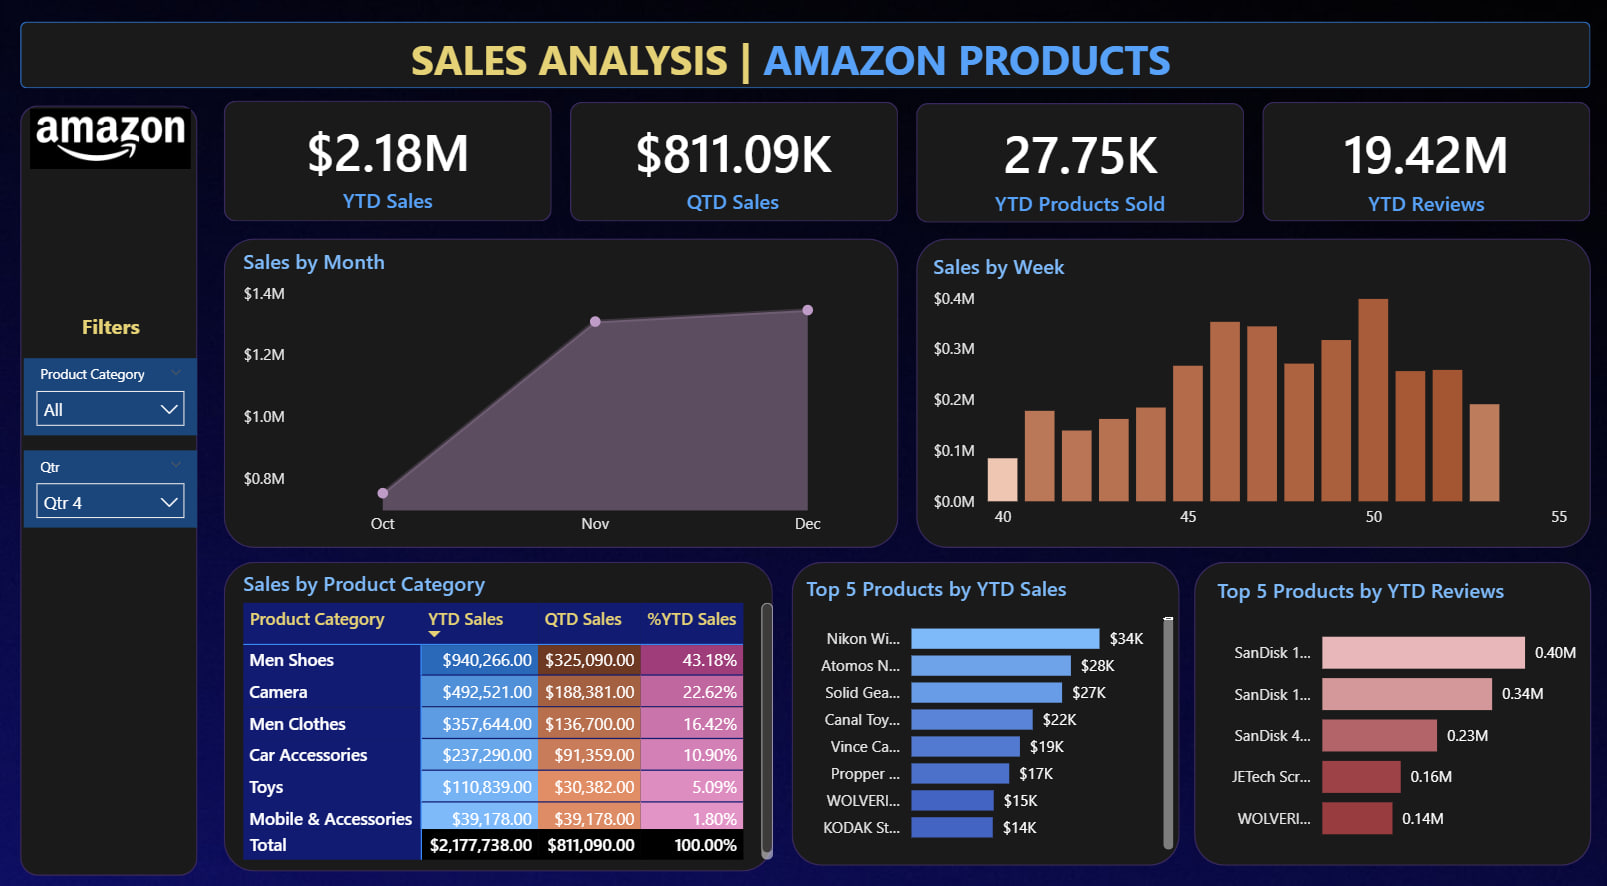

This screenshot's page, from the dashboard's own definition file:
{"tool":"powerbi","page":{"name":"Page 1","canvas":[1280,720],"ordinal":0},"visuals":[{"type":"card","fields":{"Values":["Amazon_Data.YTD Sales"]},"box":[180.9,86.4,259.1,96.4],"z":0,"group":"g1"},{"type":"shape","box":[20,88.2,140,608.2],"z":0},{"type":"card","fields":{"Values":["Amazon_Data.QTD Sales"]},"box":[453.6,87.3,259.1,96.4],"z":1000,"group":"g1"},{"type":"shape","box":[20,21.4,1240,52.9],"z":1000},{"type":"card","fields":{"Values":["Amazon_Data.YTD Products Sold"]},"box":[727.3,88.2,259.1,96.4],"z":2000,"group":"g1"},{"type":"textbox","box":[314,17,611,62.4],"z":2000},{"type":"card","fields":{"Values":["Amazon_Data.YTD Reviews"]},"box":[1000.9,88.2,259.1,96.4],"z":3000,"group":"g1"},{"type":"shape","box":[181.1,84.4,258.9,95.6],"z":3000},{"type":"shape","box":[1000.9,85.5,259.1,94.5],"z":4000},{"type":"shape","box":[727.6,86.4,259.1,94.5],"z":5000},{"type":"shape","box":[454.2,85.5,259.1,94.5],"z":6000},{"type":"group","id":"g1","title":"Group 1","box":[180.9,86.4,1079.1,98.2],"z":7000},{"type":"shape","box":[180.9,192.7,532.7,244.5],"z":8000},{"type":"areaChart","title":"Sales by Month","fields":{"Category":["Date Table.Month Name"],"Y":["Sum(Amazon_Data.Price(Dollar))"]},"box":[190.9,199.1,522.7,238.2],"z":9000},{"type":"shape","box":[727.3,192.7,532.7,244.5],"z":10000},{"type":"columnChart","title":"Sales by Week","fields":{"Category":["Date Table.Week"],"Y":["Sum(Amazon_Data.Price(Dollar))"]},"box":[735.5,203.6,515.5,228.2],"z":11000},{"type":"shape","box":[180.9,448.2,433.6,244.5],"z":12000},{"type":"pivotTable","title":"Sales by Product Category","fields":{"Rows":["Amazon_Data.Product Category"],"Values":["Amazon_Data.YTD Sales1","Amazon_Data.QTD Sales","Amazon_Data.YTD Sales"]},"box":[190.9,453.6,428.2,234.5],"z":13000},{"type":"shape","box":[629.1,448.2,306.4,240],"z":14000},{"type":"shape","box":[946.4,448.2,313.6,240],"z":15000},{"type":"clusteredBarChart","title":"Top 5 Products by YTD Sales","fields":{"Category":["Amazon_Data.Product Description"],"Y":["Amazon_Data.YTD Sales"]},"box":[635.5,458.2,300,222.7],"z":16000},{"type":"clusteredBarChart","title":"Top 5 Products by YTD Reviews","fields":{"Category":["Amazon_Data.Product Description"],"Y":["Amazon_Data.YTD Reviews"]},"box":[960,460,300,222.7],"z":17000},{"type":"image","box":[22.7,24.5,137.3,179.1],"z":18000},{"type":"slicer","fields":{"Values":["Amazon_Data.Product Category"]},"box":[22.7,287.3,137.3,60.9],"z":19000},{"type":"slicer","fields":{"Values":["Date Table.Qtr"]},"box":[22.7,360,137.3,60.9],"z":20000},{"type":"textbox","box":[22.7,246.4,137.3,40.9],"z":21000}]}

Visuals, with their boxes in screenshot pixels (x1, y1, x2, y2), scaled from the page's 1280x720 canvas onto the 1607x886 screenshot:
card - Amazon_Data.YTD Sales: (227,106,552,225)
shape: (25,109,201,857)
card - Amazon_Data.QTD Sales: (569,107,895,226)
shape: (25,26,1582,91)
card - Amazon_Data.YTD Products Sold: (913,109,1238,227)
textbox: (394,21,1161,98)
card - Amazon_Data.YTD Reviews: (1257,109,1582,227)
shape: (227,104,552,222)
shape: (1257,105,1582,222)
shape: (913,106,1239,223)
shape: (570,105,896,222)
"Group 1" group: (227,106,1582,227)
shape: (227,237,896,538)
"Sales by Month" areaChart: (240,245,896,538)
shape: (913,237,1582,538)
"Sales by Week" columnChart: (923,251,1571,531)
shape: (227,552,771,852)
"Sales by Product Category" pivotTable: (240,558,777,847)
shape: (790,552,1174,847)
shape: (1188,552,1582,847)
"Top 5 Products by YTD Sales" clusteredBarChart: (798,564,1174,838)
"Top 5 Products by YTD Reviews" clusteredBarChart: (1205,566,1582,840)
image: (28,30,201,251)
slicer - Amazon_Data.Product Category: (28,354,201,428)
slicer - Date Table.Qtr: (28,443,201,518)
textbox: (28,303,201,354)
